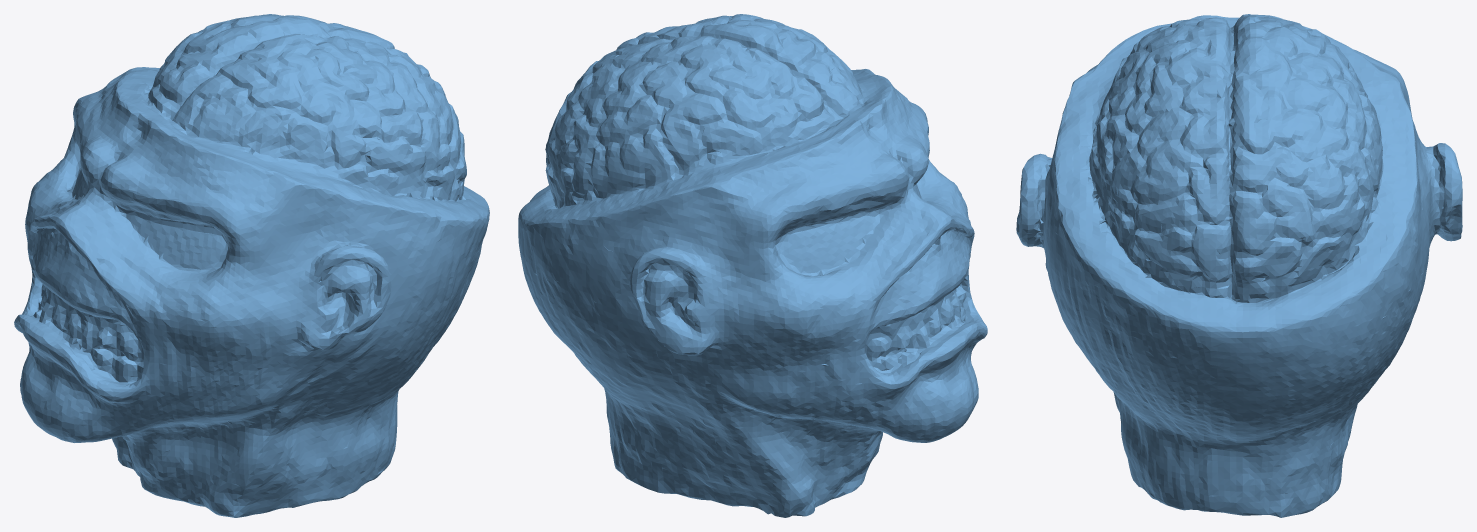
The model's file is zombie_1.glb.
The picture shows the model from 3 angles, left to right: view 1: azimuth 30°, elevation 25°; view 2: azimuth 150°, elevation 25°; view 3: azimuth 270°, elevation 25°; orthographic projection. The views are drawn at different scales.
Visible parts, largest first — view 1: world; view 2: world; view 3: world.
Boxes of the visible parts, x1,y1,x2,y2 form: world: (14,14,489,517); world: (518,14,987,517); world: (1016,14,1462,517).
Bounding box in the file's own units: 1.21 × 1.18 × 1.07.
